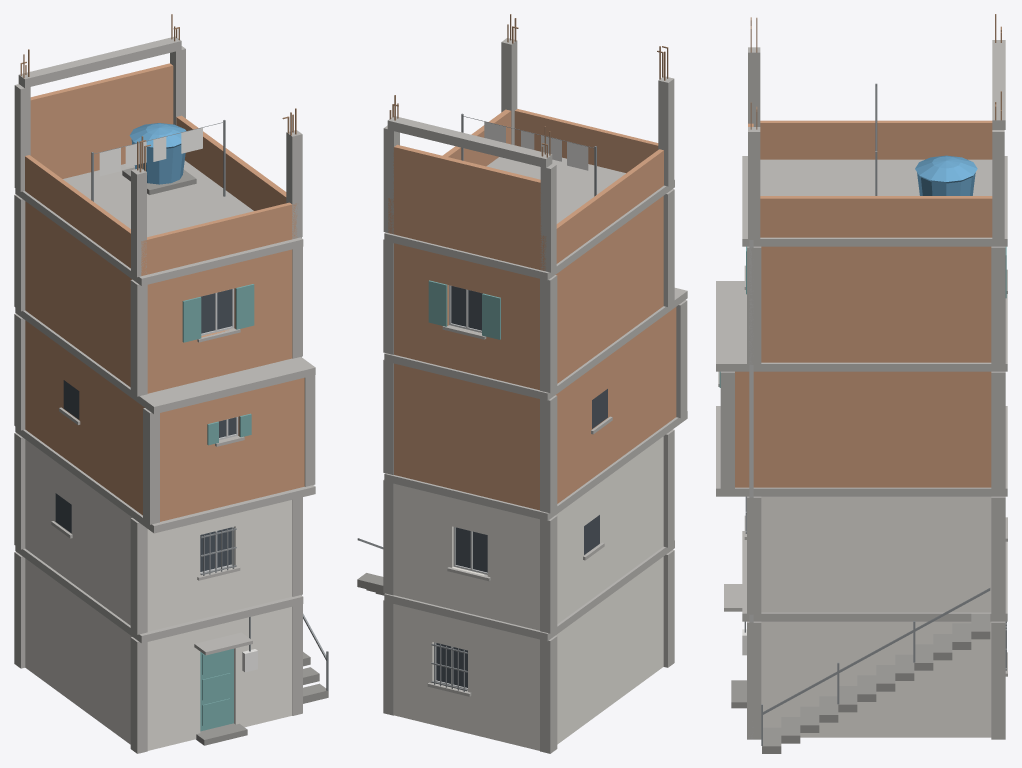
3 renders of one model, left to right at view 1: azimuth 30°, elevation 25°; view 2: azimuth 150°, elevation 25°; view 3: azimuth 270°, elevation 25°, orthographic. The views are drawn at different scales.
Visible parts, largest first — view 1: fv_h05; view 2: fv_h05; view 3: fv_h05.
Boxes of the visible parts, x1,y1,x2,y2 form: fv_h05: (14, 14, 328, 753); fv_h05: (357, 14, 687, 753); fv_h05: (716, 14, 1007, 753).
Size of the model in its own units: 5.06 by 15 by 6.14.
